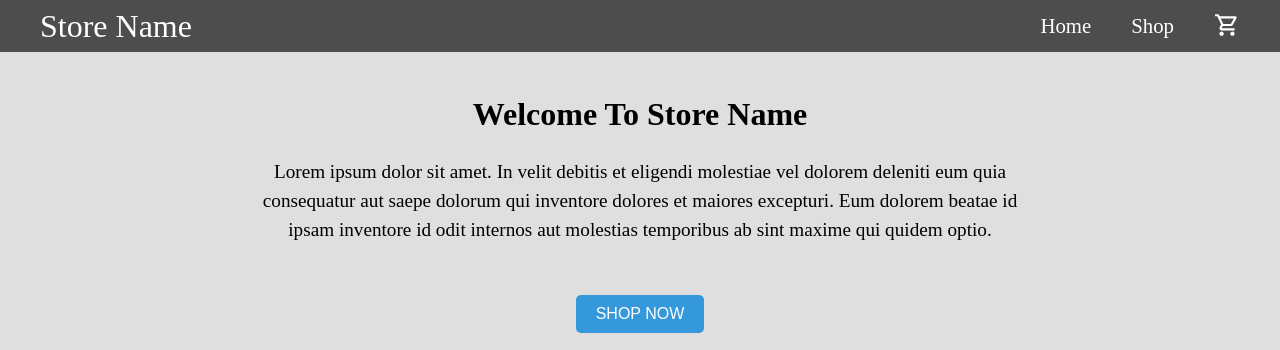
App Component › navigates to the shop page
This screenshot has width=1280, height=350.
Click the button "SHOP NOW" at (640, 314), box [576,295,704,333]
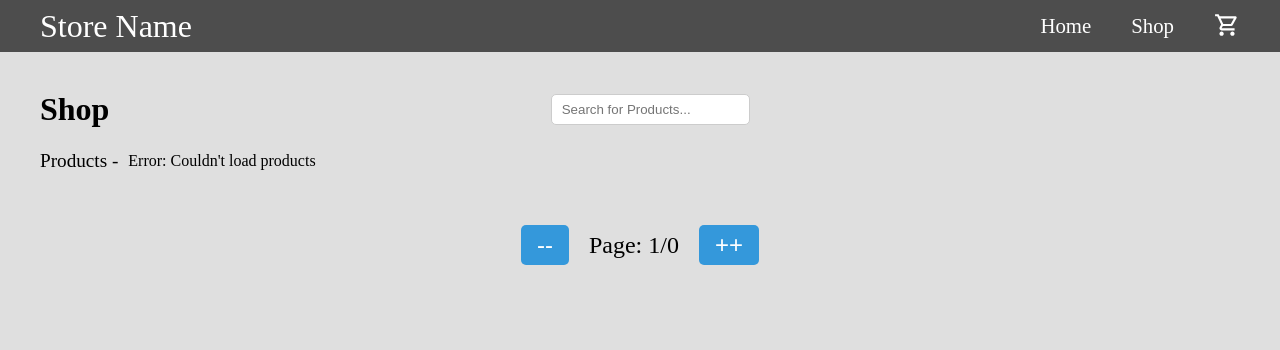
expect the text "Products -" is shown: met, box [40,151,118,170]
